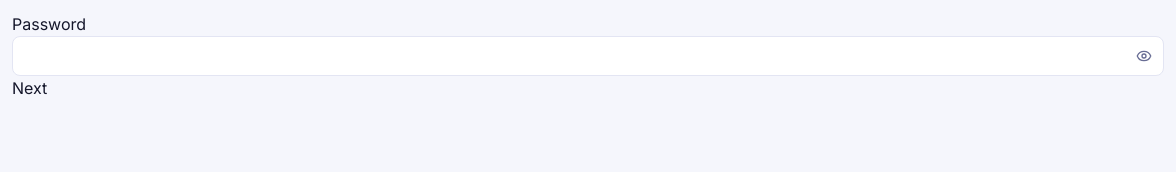
it: PasswordInput caps lock hint › says Caps Lock is on while typing with it on
This screenshot has width=1176, height=172.
Click the password field labelled "Password" at point(588, 56), box [12,36,1164,76]
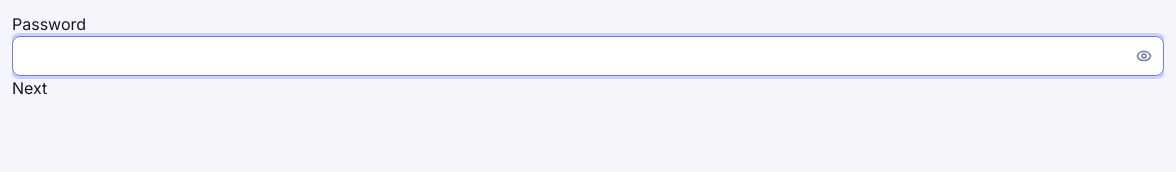
Type keys "{CapsLock}A"
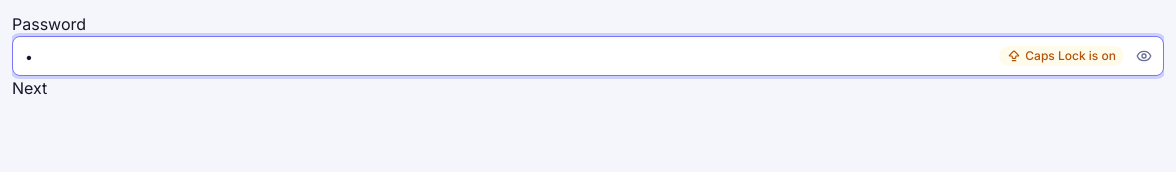
Check: the text "Caps Lock is on" is shown, box [999,46,1124,66]
